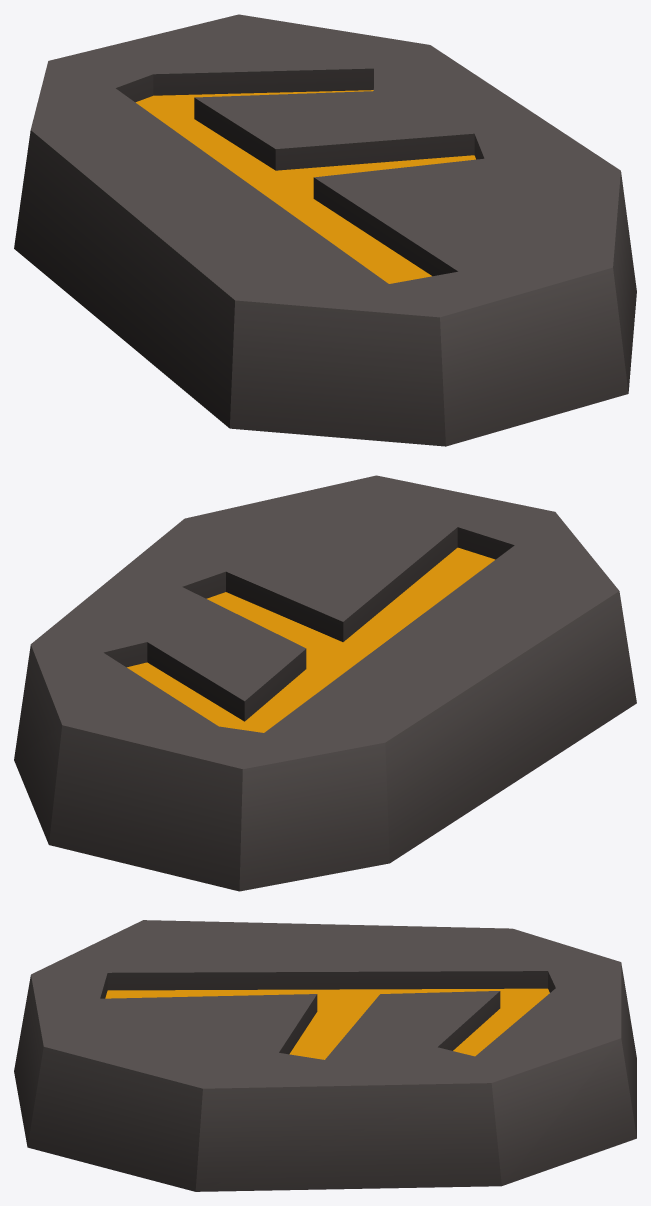
The model's file is Runestone1.fbx.
3 renders of one model, top to bottom at view 1: azimuth 30°, elevation 25°; view 2: azimuth 150°, elevation 25°; view 3: azimuth 270°, elevation 25°, orthographic. The views are drawn at different scales.
Parts seen in each view (by area): view 1: Runestone1; view 2: Runestone1; view 3: Runestone1.
Part boxes in pixels (bbox=[...]): Runestone1: bbox=[14, 14, 636, 446]; Runestone1: bbox=[14, 475, 636, 891]; Runestone1: bbox=[14, 920, 636, 1191].
Size of the model in its own units: 10.91 by 2.82 by 16.13.
